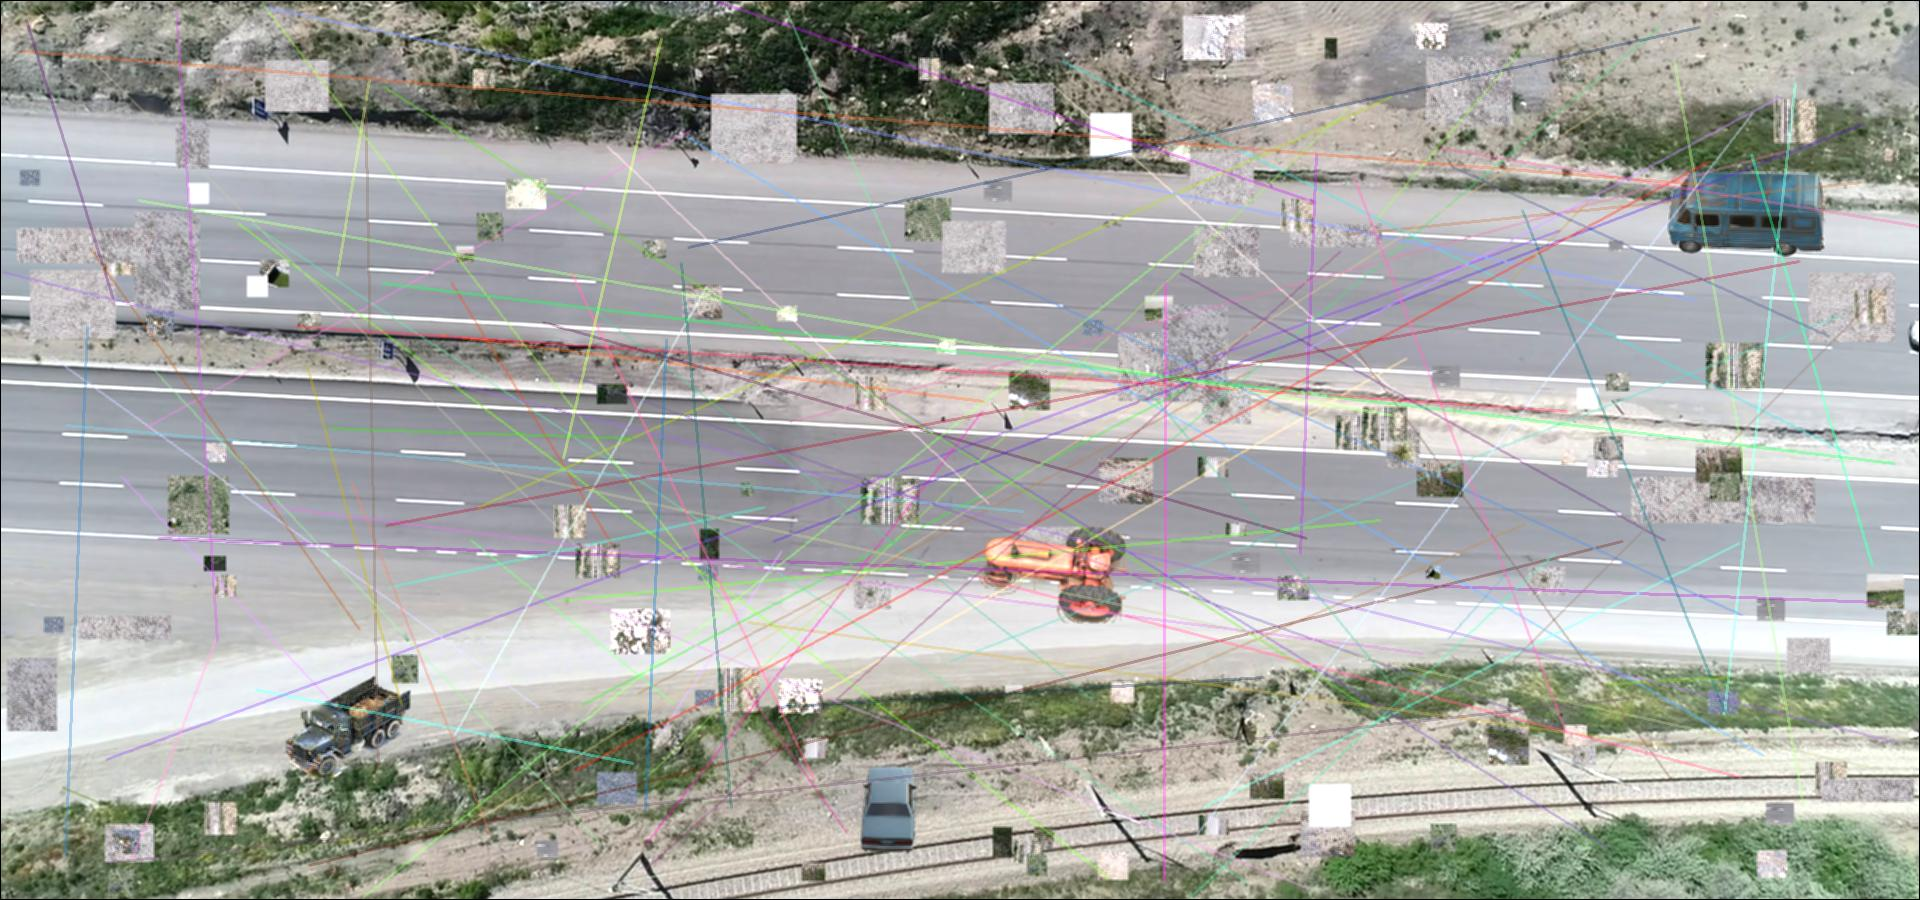arac: (980, 523, 1133, 623), (1668, 171, 1824, 258), (287, 673, 411, 778), (856, 767, 920, 853)
